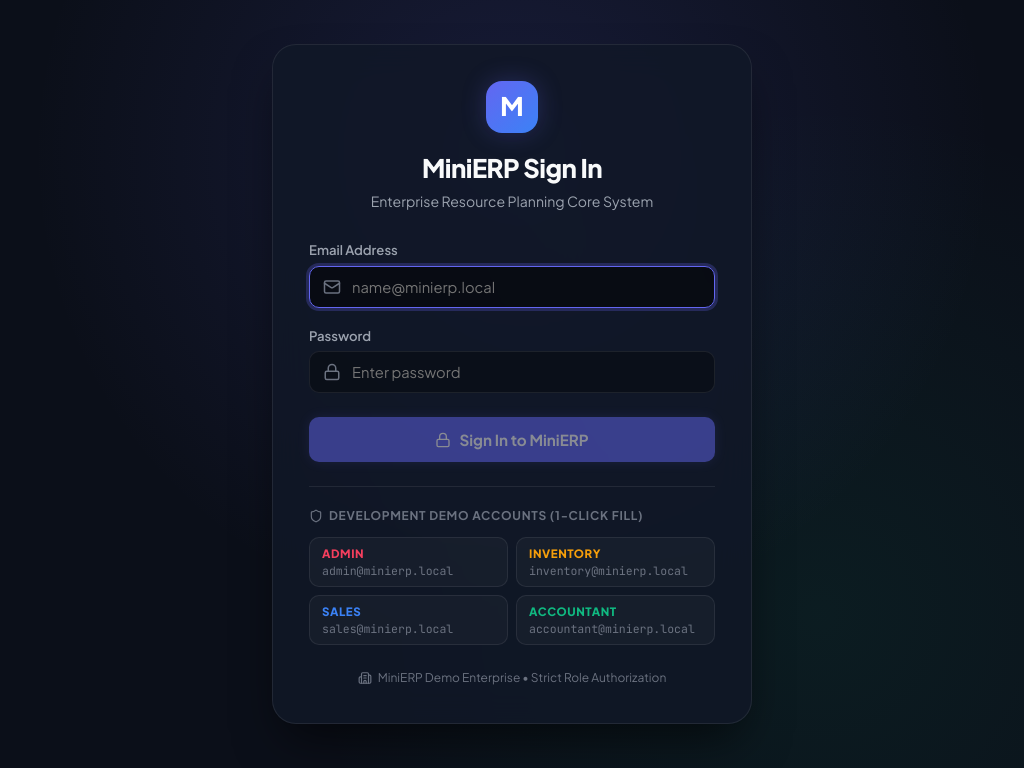
Test: Frontend Authentication Flow › 5. Successfully logs in, redirects to dashboard, and renders user profile & role
Type "admin@minierp.local" into the field labelled "Email Address" at (512, 287), box left=309, top=266, right=715, bottom=308
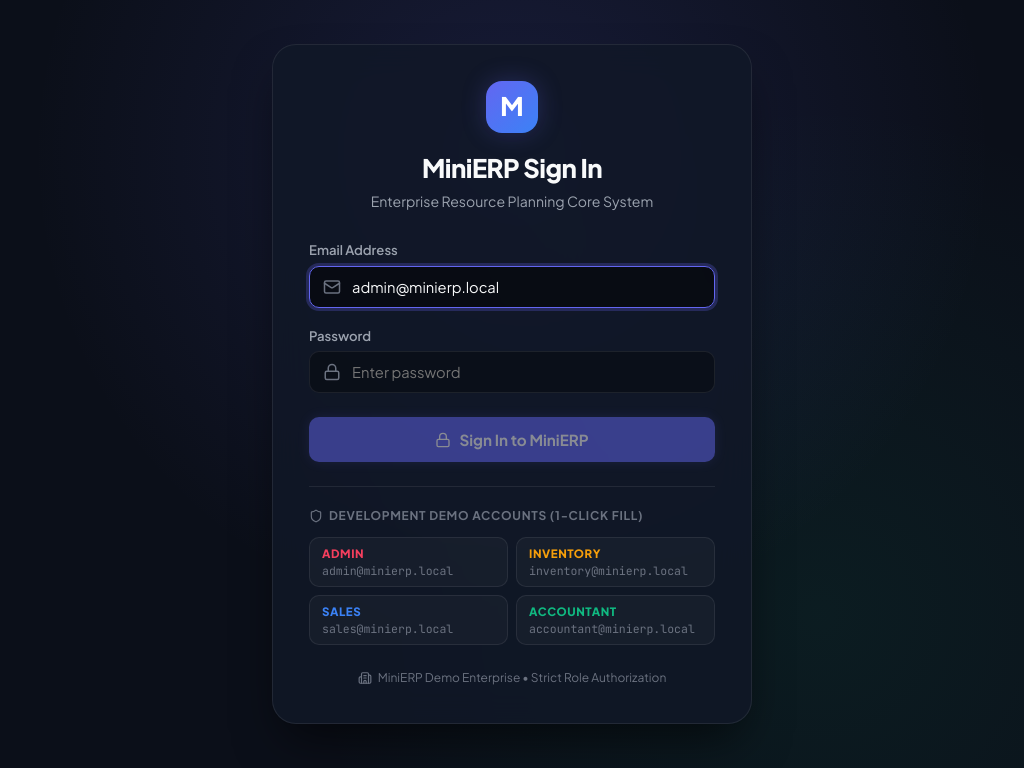
Type "Admin123!" into the password field labelled "Password" at (512, 372), box left=309, top=351, right=715, bottom=393
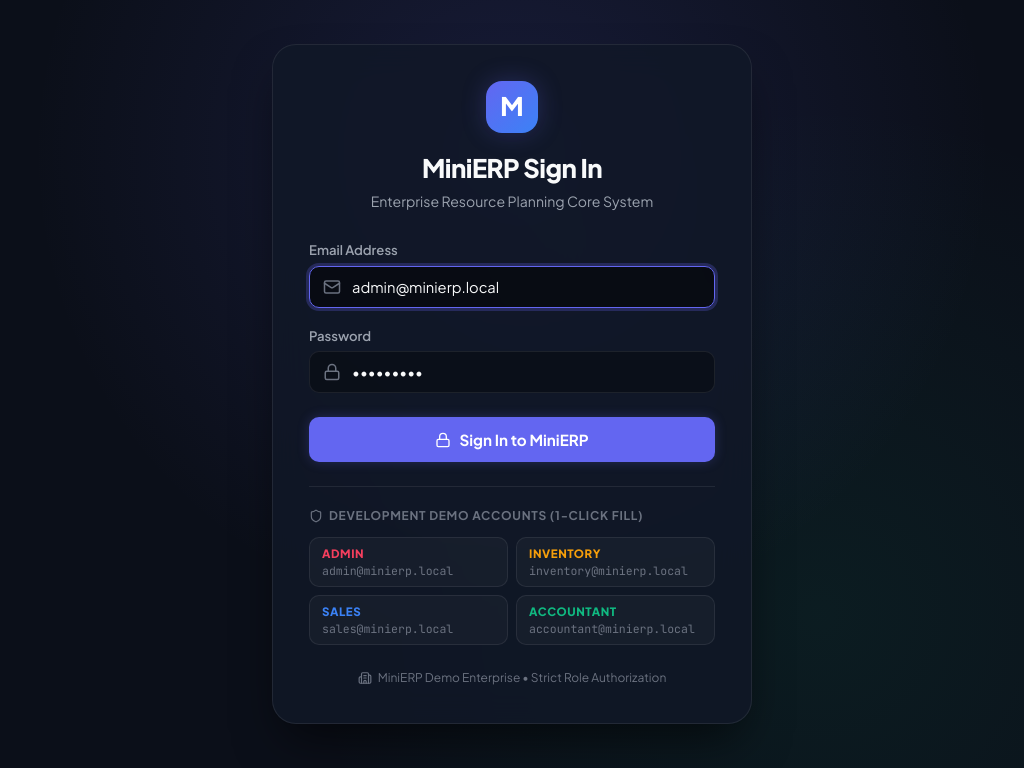
Click the button "Sign In to MiniERP" at (512, 440), box left=309, top=417, right=715, bottom=462
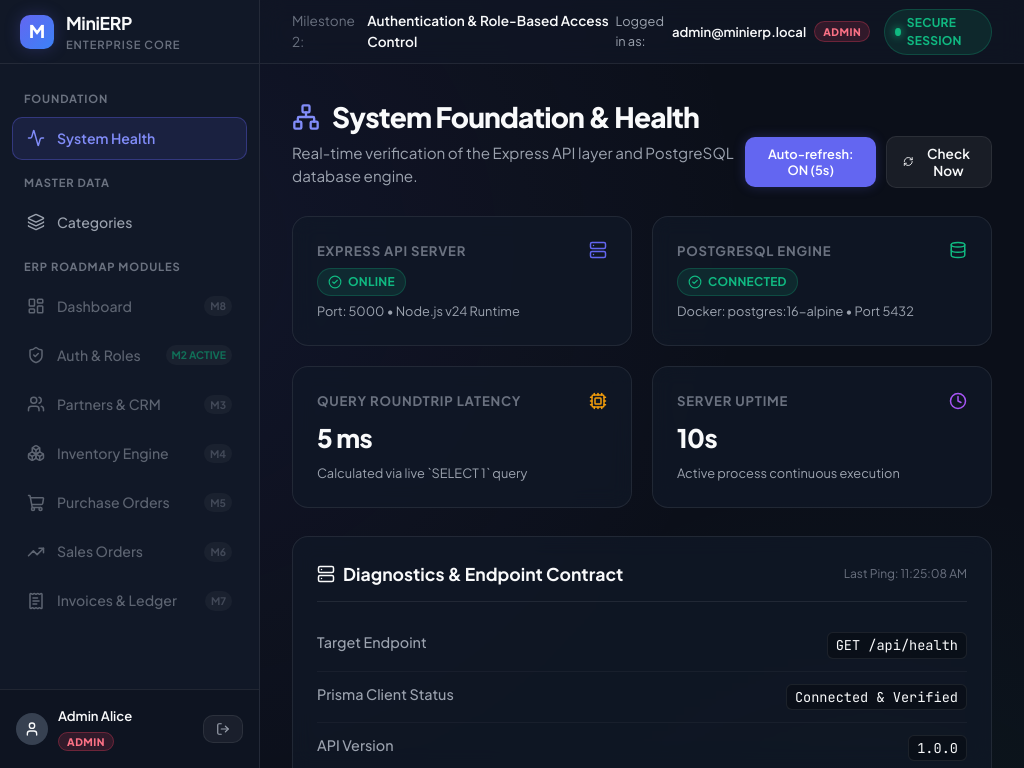
Check: the text "Admin Alice" is shown, box left=58, top=706, right=132, bottom=726
Check: the text "ADMIN" below "Admin Alice" is shown, box left=67, top=735, right=105, bottom=748
Check: the text "System Health" is shown, box left=57, top=128, right=155, bottom=149
